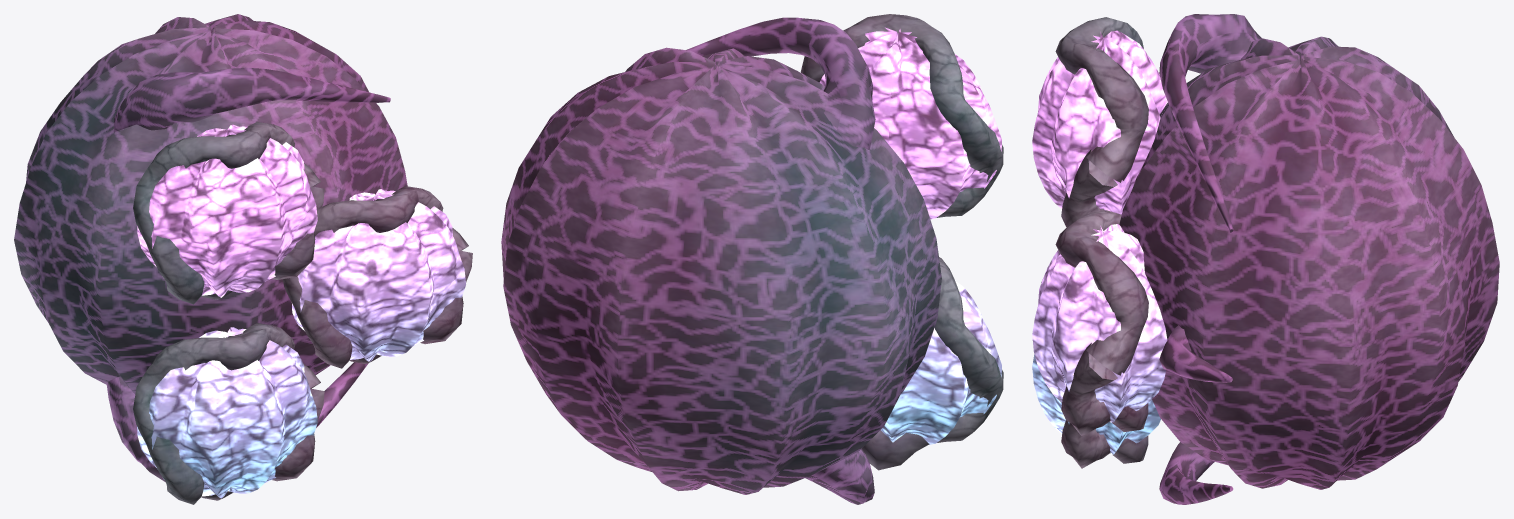
The model's file is extinction-core.glb.
The picture shows the model from 3 angles, left to right: view 1: azimuth 30°, elevation 25°; view 2: azimuth 150°, elevation 25°; view 3: azimuth 270°, elevation 25°; orthographic projection. The views are drawn at different scales.
Visible parts, largest first — view 1: extinction-core_carapace, extinction-core_signal, extinction-core_rib, extinction-core_membrane; view 2: extinction-core_carapace, extinction-core_signal, extinction-core_rib, extinction-core_membrane; view 3: extinction-core_carapace, extinction-core_signal, extinction-core_rib, extinction-core_membrane.
Part boxes in pixels (<box>): extinction-core_carapace: <box>14,14,407,393</box>; extinction-core_signal: <box>137,124,465,498</box>; extinction-core_rib: <box>133,122,472,504</box>; extinction-core_membrane: <box>106,68,390,481</box>; extinction-core_carapace: <box>501,47,941,494</box>; extinction-core_signal: <box>819,27,1001,444</box>; extinction-core_rib: <box>800,14,1003,470</box>; extinction-core_membrane: <box>686,17,875,504</box>; extinction-core_carapace: <box>1119,36,1499,489</box>; extinction-core_signal: <box>1032,30,1167,454</box>; extinction-core_rib: <box>1055,17,1148,468</box>; extinction-core_membrane: <box>1159,14,1261,504</box>.
Size of the model in its own units: 1.21 by 1.33 by 1.21.
Materials: 4 (4 with a texture image).
